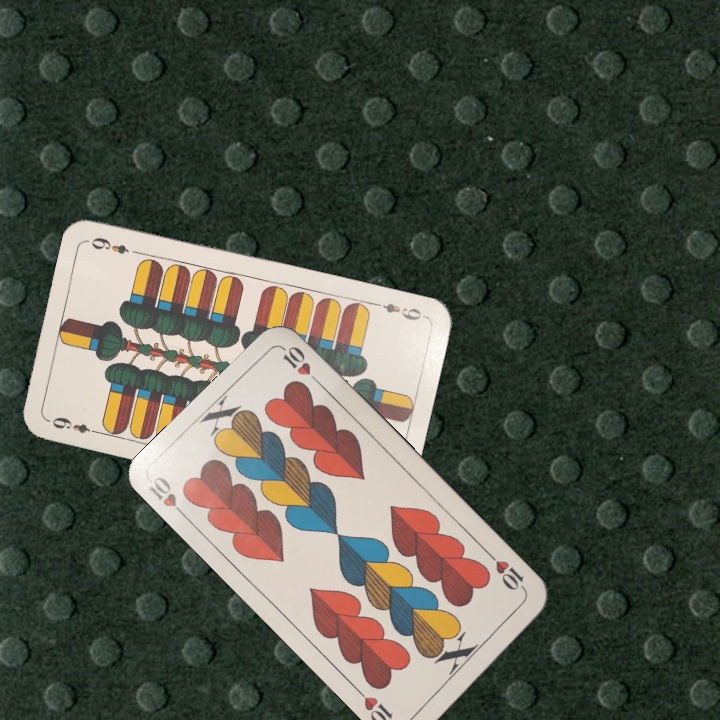E9: (369, 298, 428, 323), (48, 412, 103, 437)
H10: (145, 472, 192, 523), (484, 549, 530, 597)
